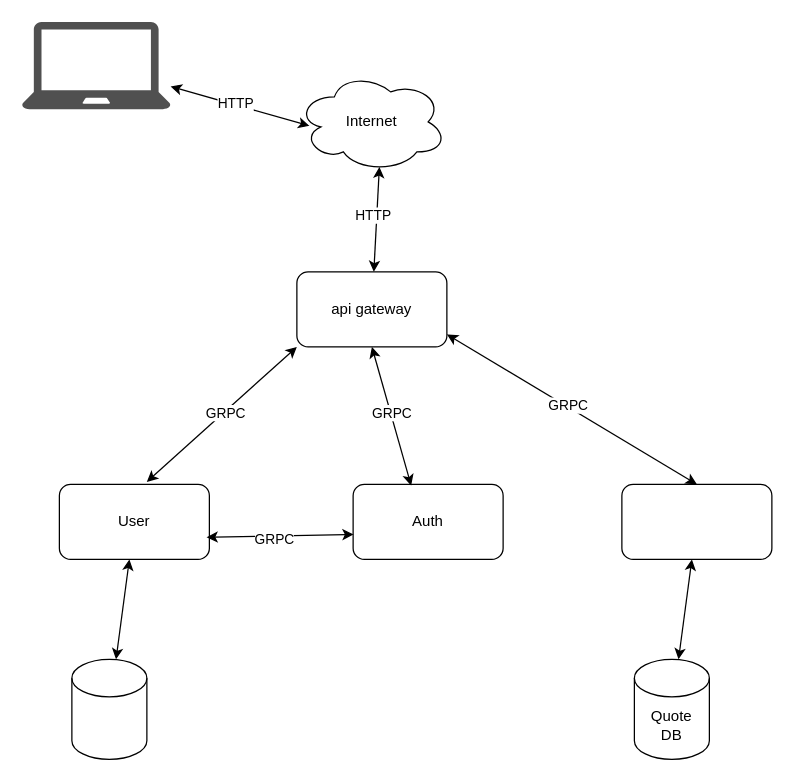
This 794x781 diagram has some shape labels left out. The centre of each missing label's shape, as x and y in pixels:
"Quote" belongs at [696,521].
"User DB" belongs at [109,708].
